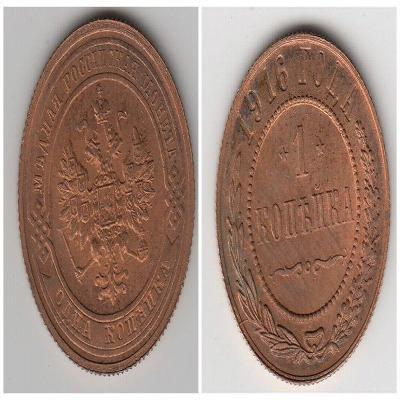numismatics: (215, 31, 392, 386), (20, 18, 192, 376)
